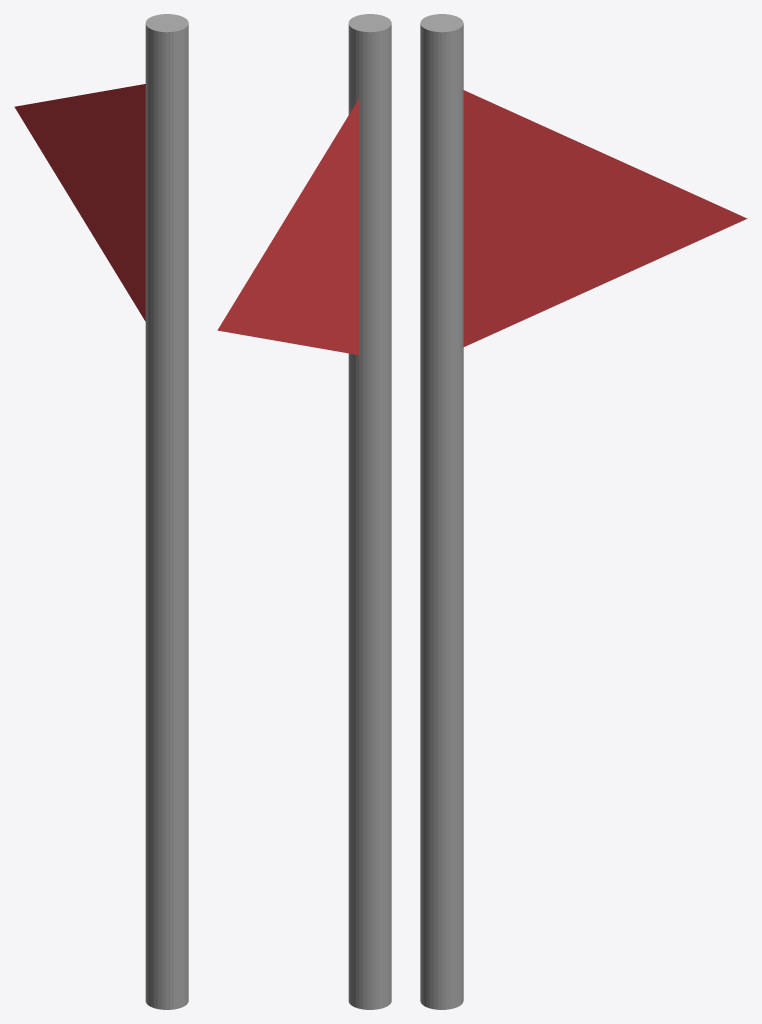
Rendered from Goal.gltf.
3 renders of one model, left to right at view 1: azimuth 30°, elevation 25°; view 2: azimuth 150°, elevation 25°; view 3: azimuth 270°, elevation 25°, orthographic.
Visible parts, largest first — view 1: Cylinder, Plane, Plane.001; view 2: Cylinder, Plane, Plane.001; view 3: Cylinder, Plane, Plane.001.
Boxes of the visible parts, box(x1,y1,x2,y2) form: Cylinder: box(145, 14, 188, 1009); Plane: box(14, 84, 145, 320); Plane.001: box(16, 84, 145, 321); Cylinder: box(348, 14, 391, 1009); Plane: box(217, 98, 359, 354); Plane.001: box(242, 104, 359, 319); Cylinder: box(420, 14, 463, 1009); Plane: box(463, 90, 747, 346); Plane.001: box(463, 90, 746, 346).
Size of the model in its own units: 0.12 by 3 by 0.91.
